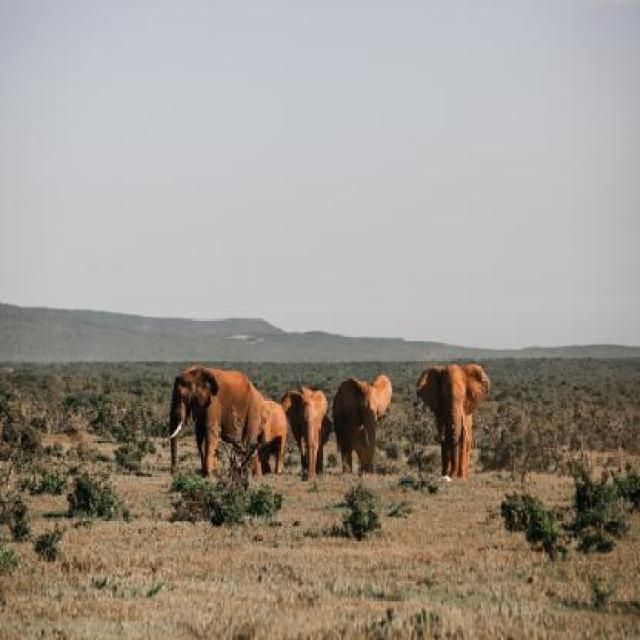Elephant: (165, 362, 268, 487), (415, 358, 493, 484), (330, 369, 396, 477), (280, 382, 334, 482)
